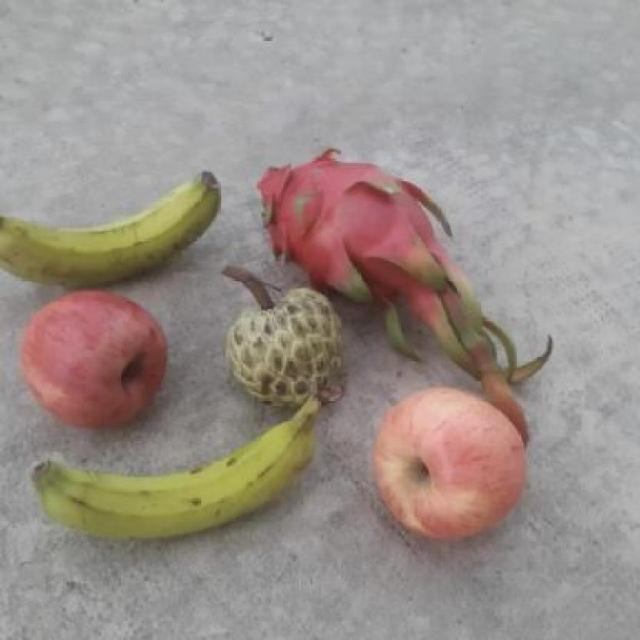apple: (360, 382, 529, 546), (13, 288, 170, 432)
banana: (28, 382, 344, 543), (0, 170, 220, 288)
dragon fruit: (241, 142, 462, 321)
sugar apple: (220, 292, 351, 408)
